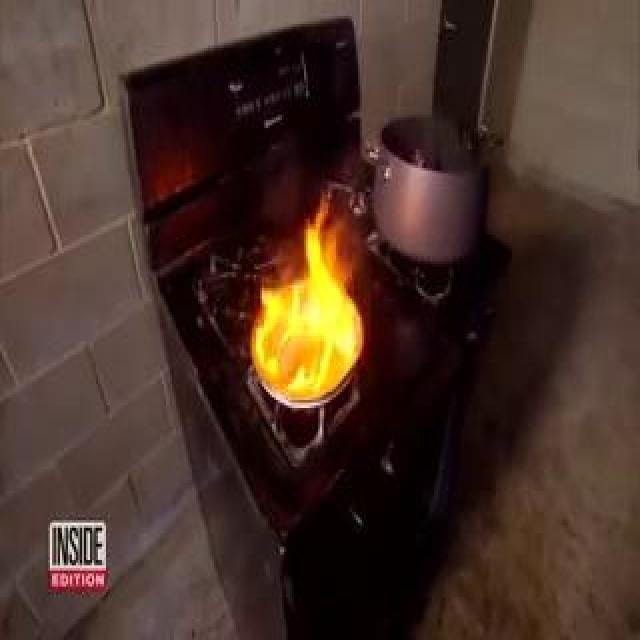Fire: (257, 218, 362, 398)
